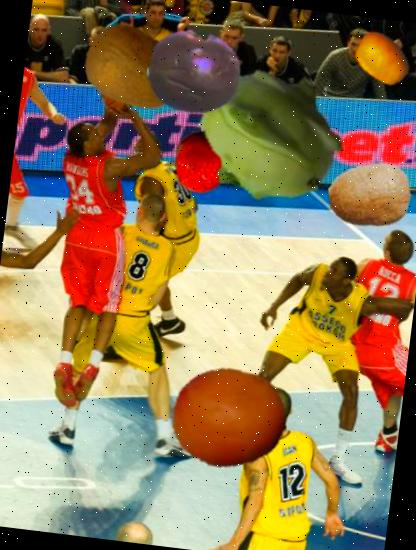Apricot: (164, 354, 294, 484)
Kiwi: (75, 11, 190, 126), (324, 149, 416, 243)
Kohlrabi: (186, 55, 350, 219)
Kumquats: (349, 26, 415, 92)
Passion: (141, 18, 249, 126)
Strawberry: (160, 121, 242, 202)
